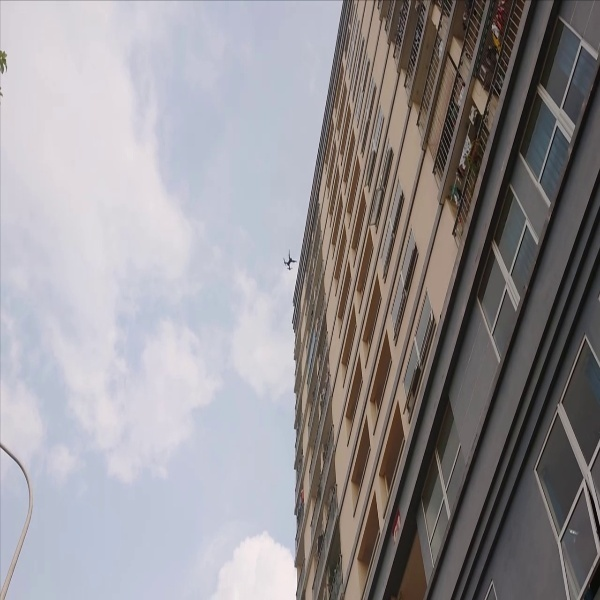drone: (278, 243, 297, 273)
